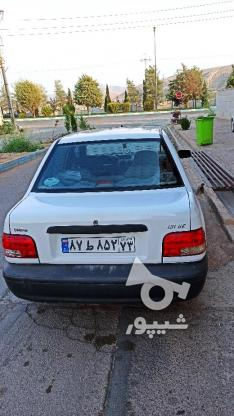car: (59, 237, 134, 254)
